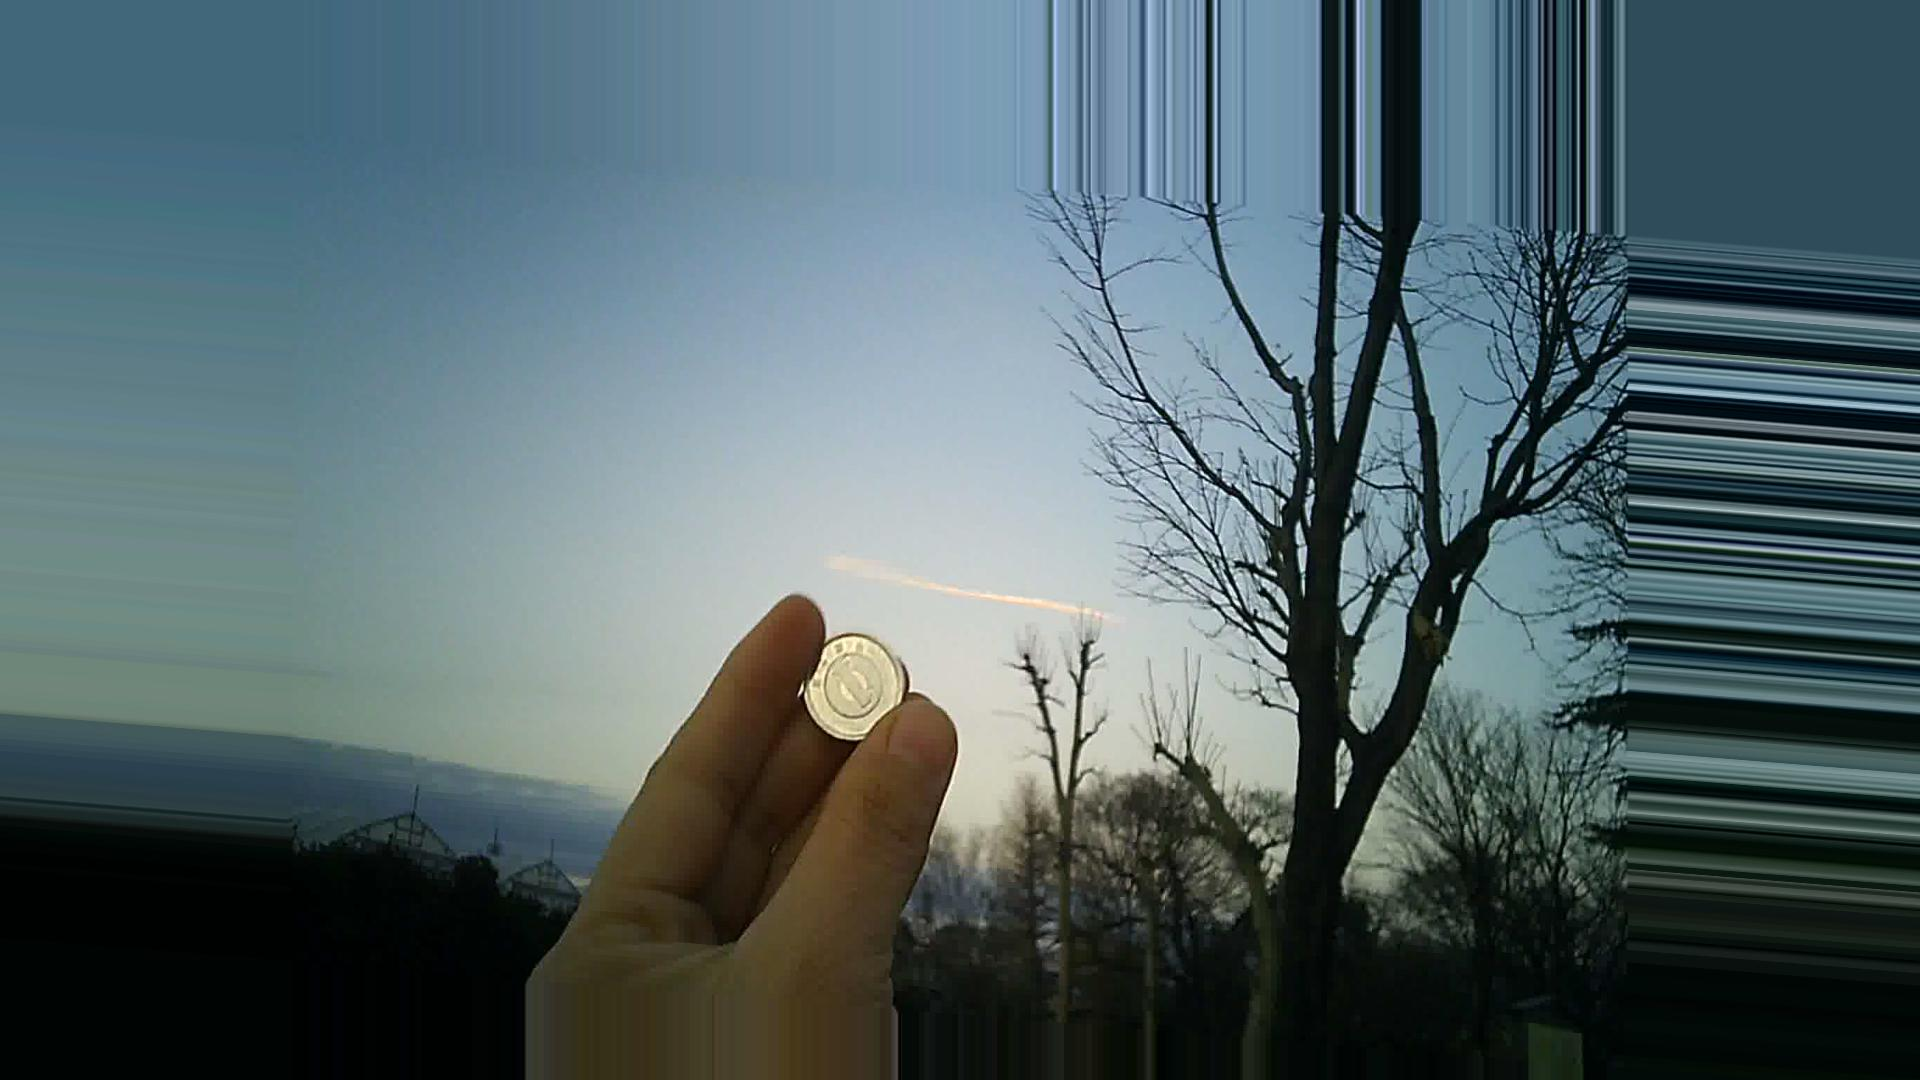1 Yen: (785, 626, 907, 741)
